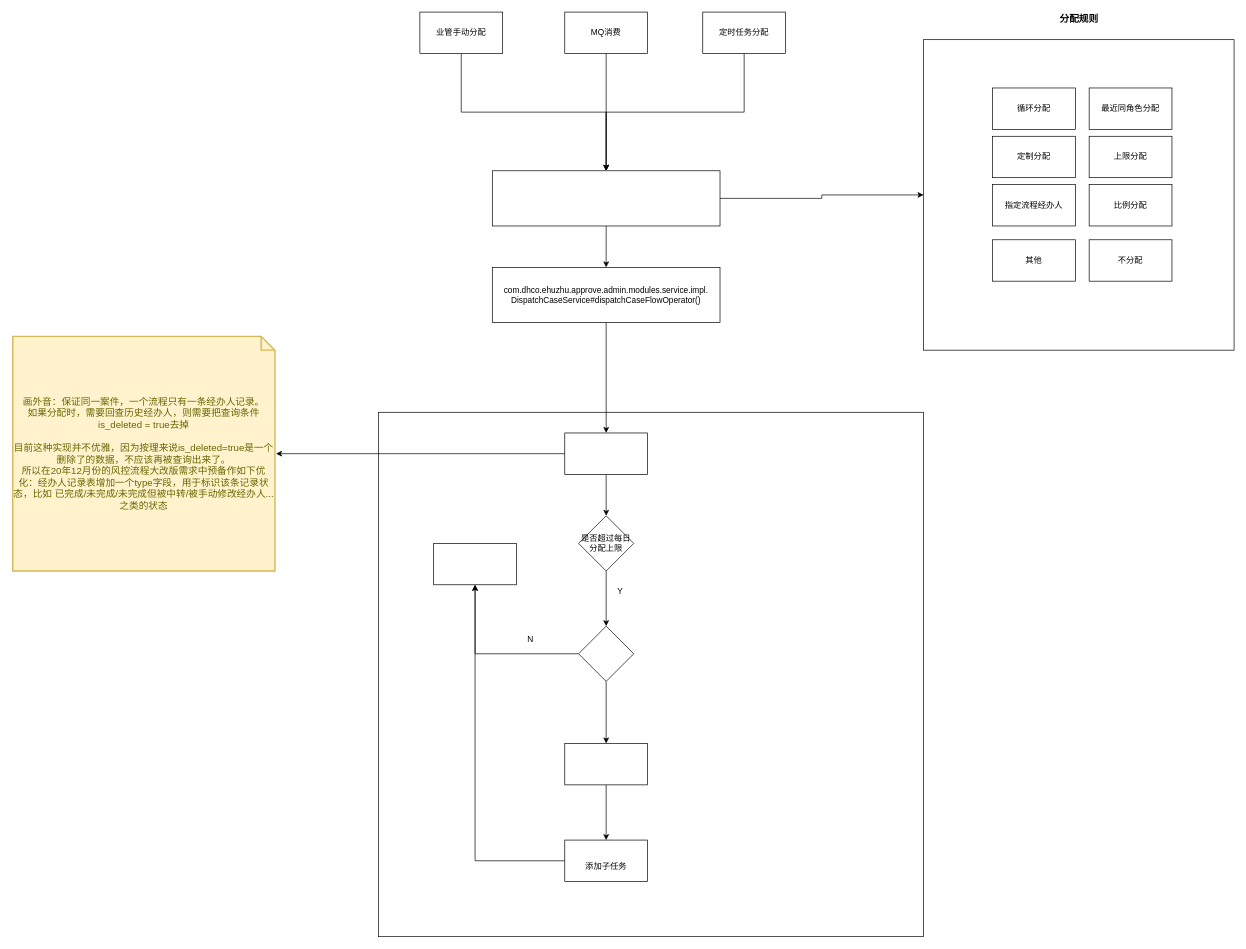
This 1246x949 diagram has some shape labels left out. The centre of each missing label's shape, as x and y in pixels:
"先删除已经待分配流程已经分配了经办人的记录" belongs at point (606, 453).
"如果非业管手动分配，则根据分配规则获取经办人" belongs at point (606, 198).
"是否强制分配" belongs at point (606, 653).
"经办人表、历史处理记录表增加记录" belongs at point (606, 764).
"结束" belongs at point (474, 564).
